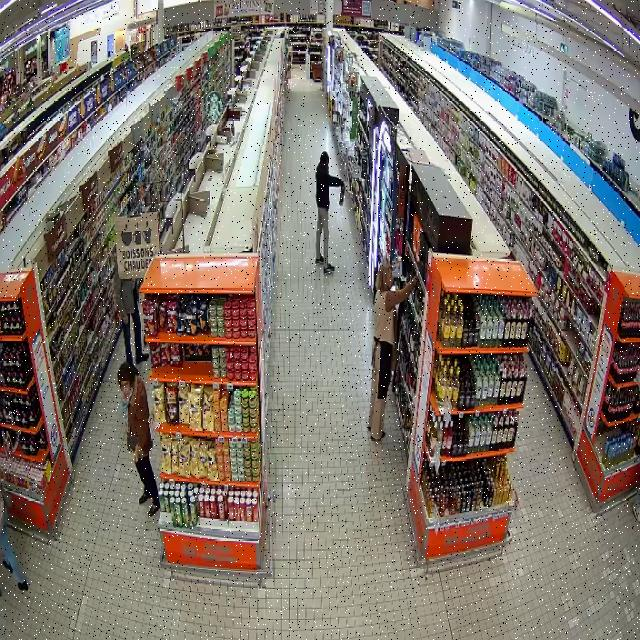article: (339, 190, 344, 206)
hands: (133, 453, 139, 464), (123, 313, 129, 324), (341, 184, 345, 190)
person: (367, 263, 416, 440), (117, 362, 159, 517), (315, 151, 346, 273), (114, 271, 148, 364)
